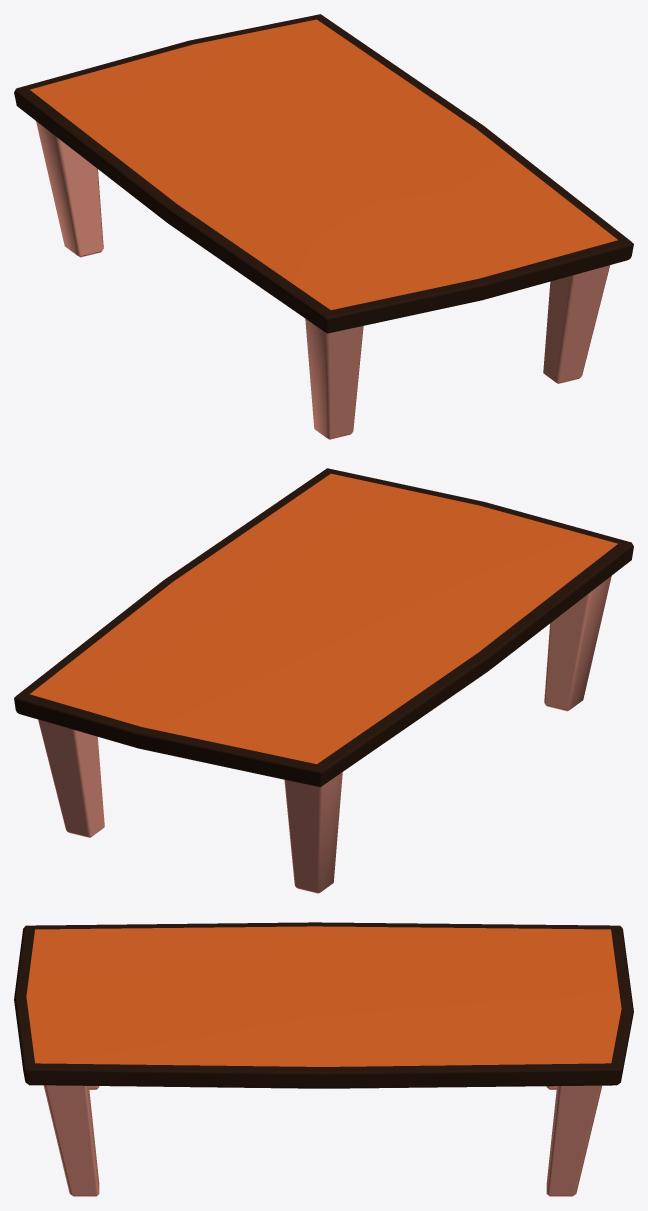
Rendered from SM_CoffeeTable.fbx.
3 renders of one model, top to bottom at view 1: azimuth 30°, elevation 25°; view 2: azimuth 150°, elevation 25°; view 3: azimuth 270°, elevation 25°, orthographic. The views are drawn at different scales.
Visible parts, largest first — view 1: SM_CoffeeTable; view 2: SM_CoffeeTable; view 3: SM_CoffeeTable.
Boxes of the visible parts, <box> form: SM_CoffeeTable: <box>14,14,633,439</box>; SM_CoffeeTable: <box>14,468,633,893</box>; SM_CoffeeTable: <box>14,922,633,1196</box>.
Bounding box in the file's own units: 115 × 51.99 × 200.
